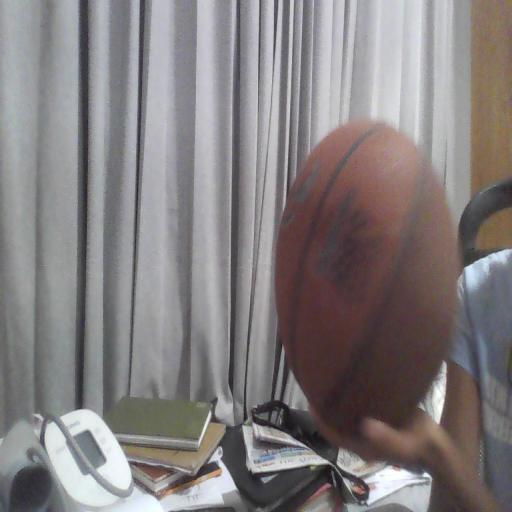basketball: (275, 121, 459, 434)
